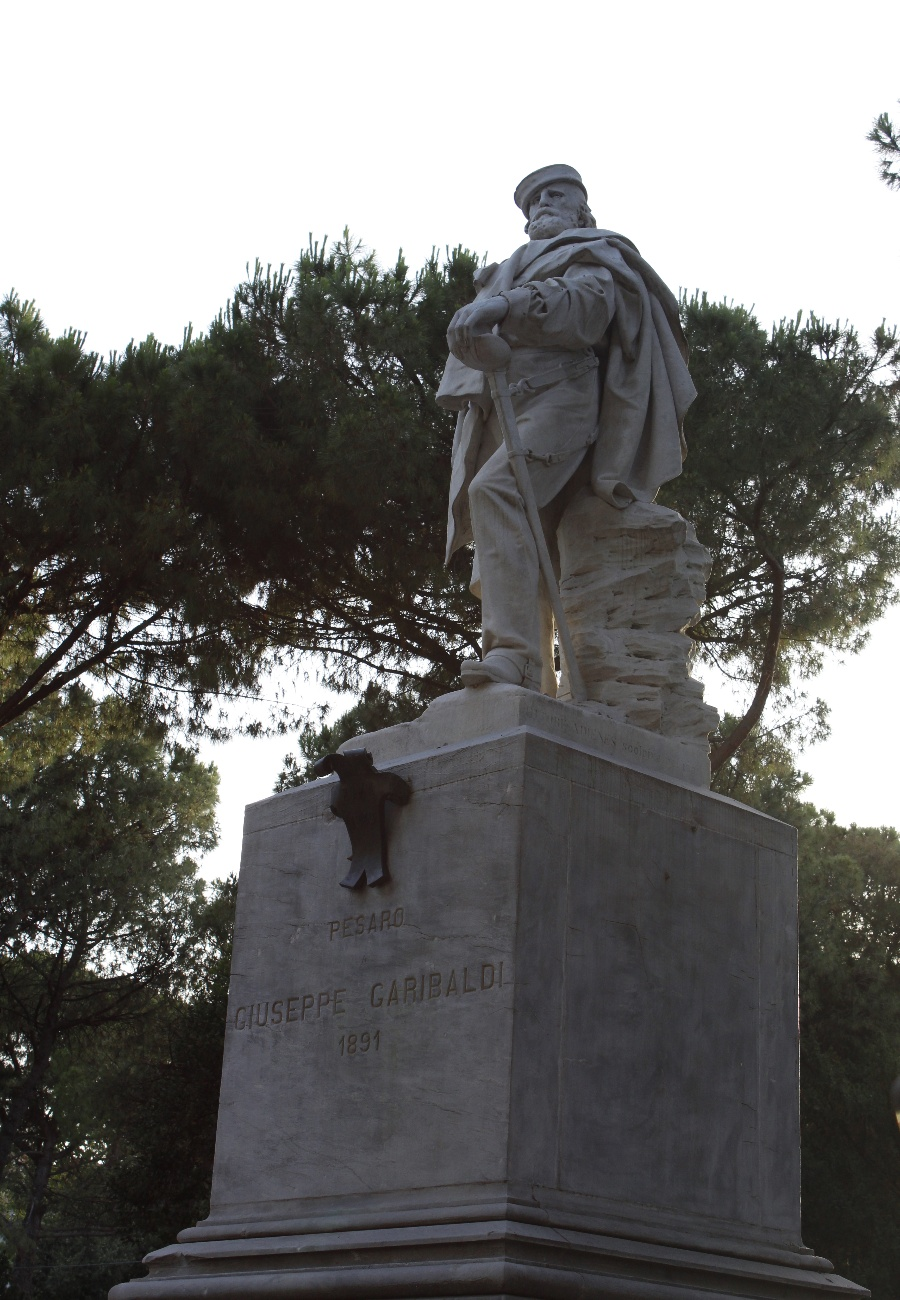Giuseppe Garibaldi: (434, 163, 700, 692)
